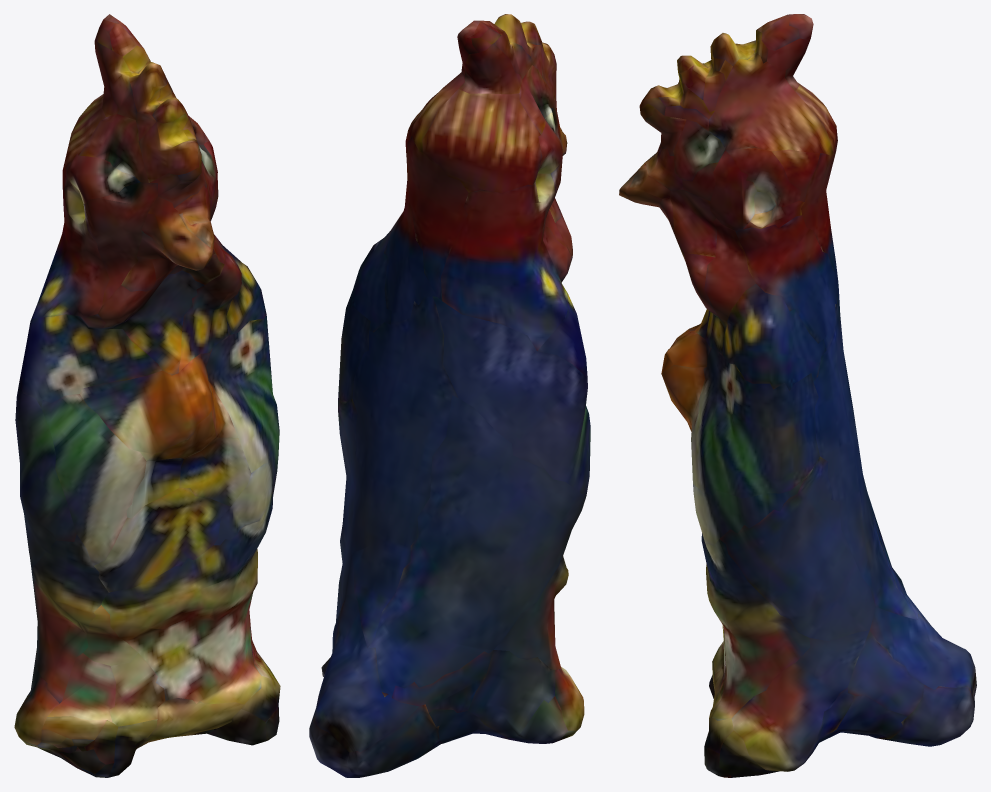
The model's file is hall.glb.
3 views of the same model, side by side, from view 1: azimuth 30°, elevation 25°; view 2: azimuth 150°, elevation 25°; view 3: azimuth 270°, elevation 25° (orthographic).
Size of the model in its own units: 0.1575 by 0.4192 by 0.1915.
1 material, 1 textured.
